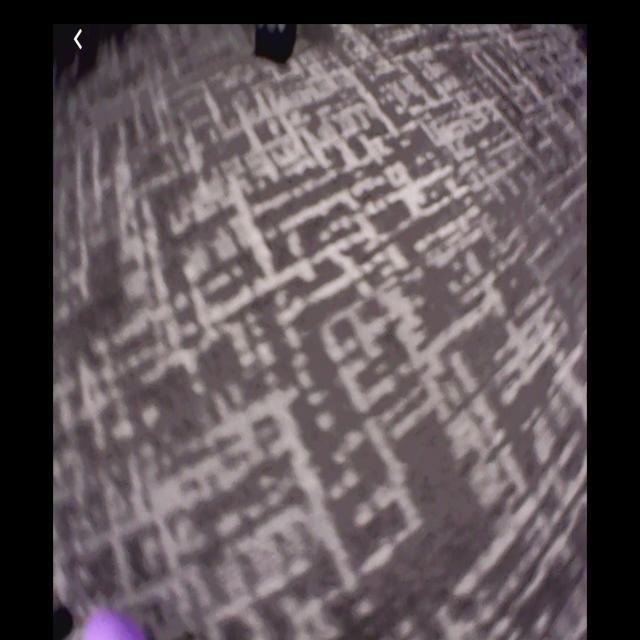ball: (79, 604, 141, 640)
